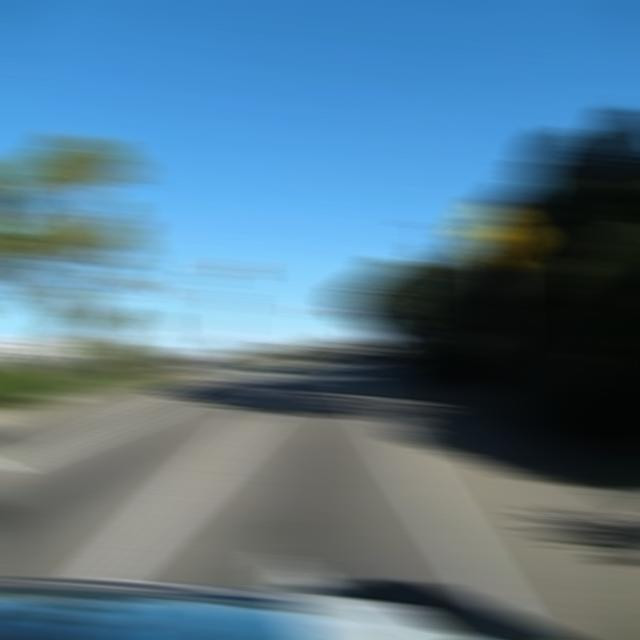pedestrianCrossing: (456, 195, 538, 274)
